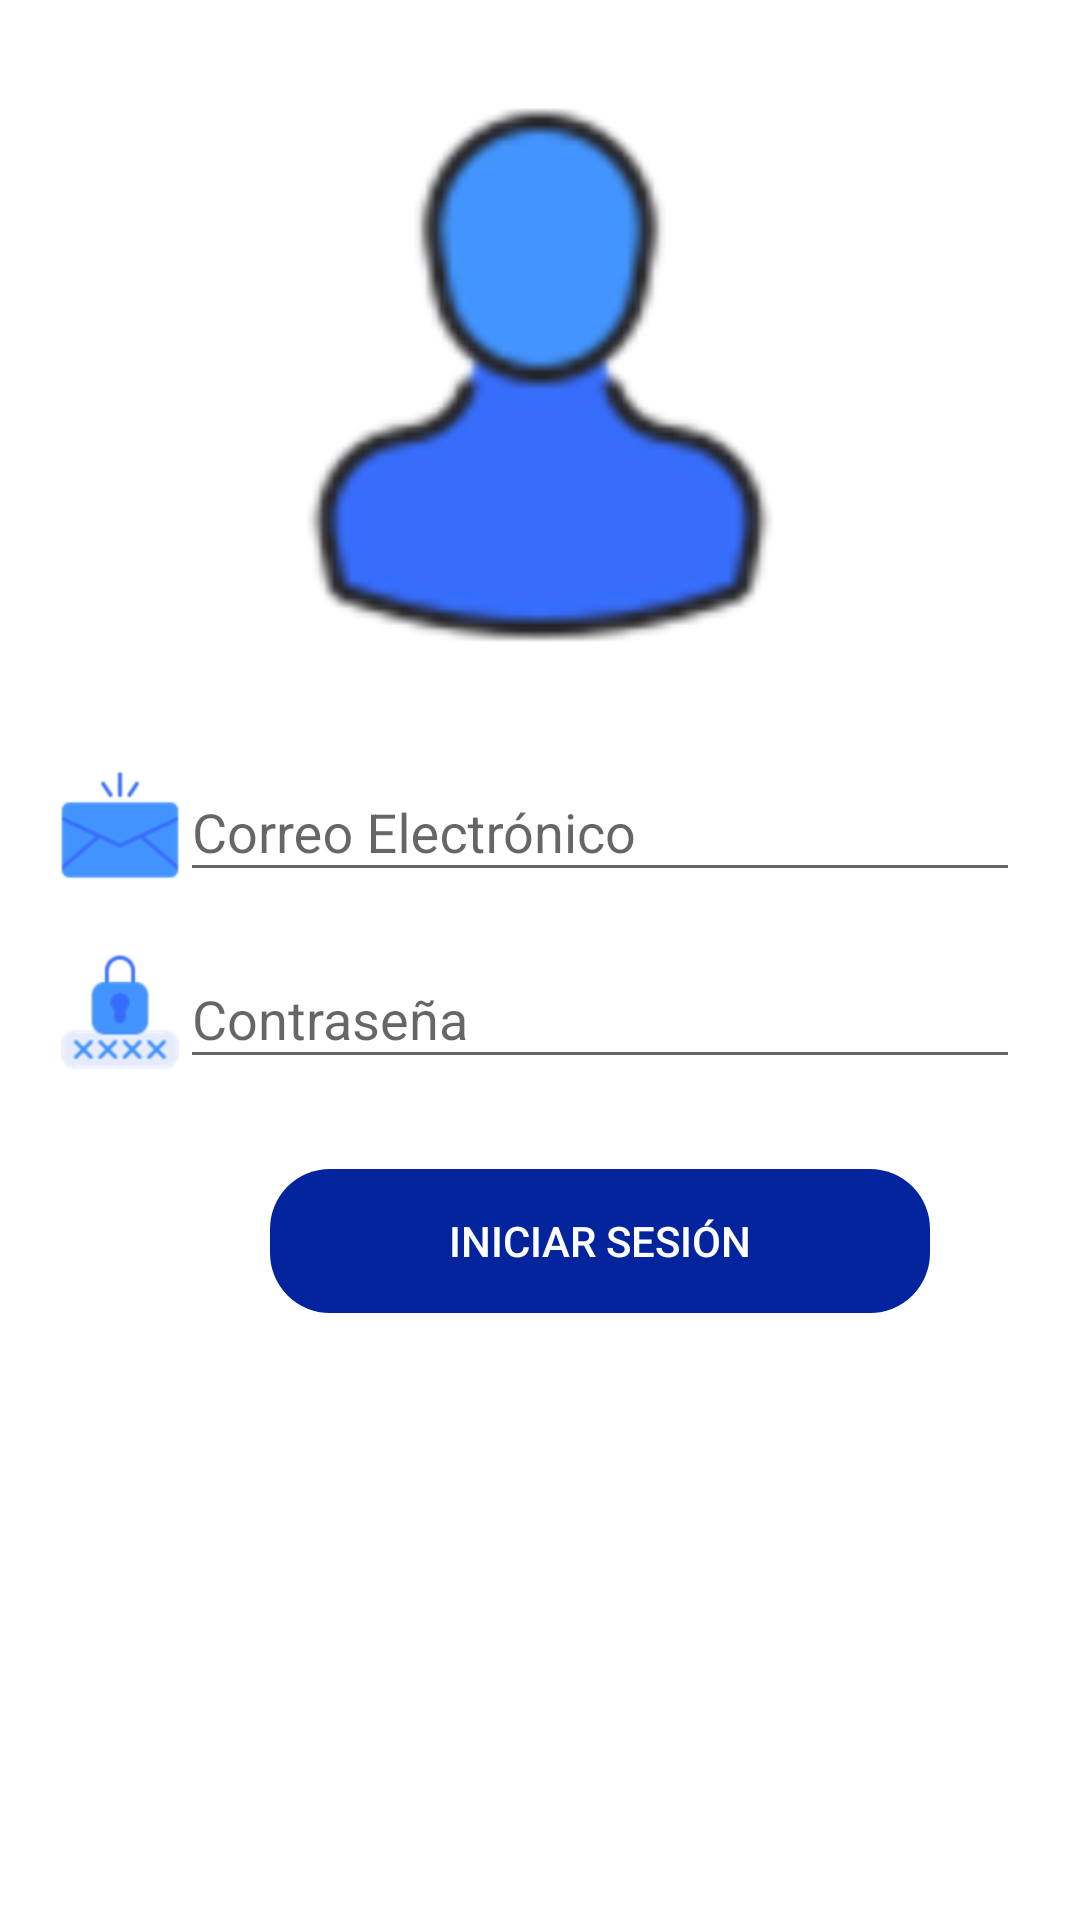

Named icons in this screenshot (1080w x 1920h) and their centers, [x,y]:
mail: [120,825]
password: [120,1010]
